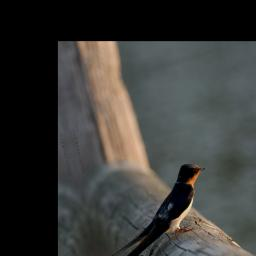Swallow: (88, 154, 226, 256)
